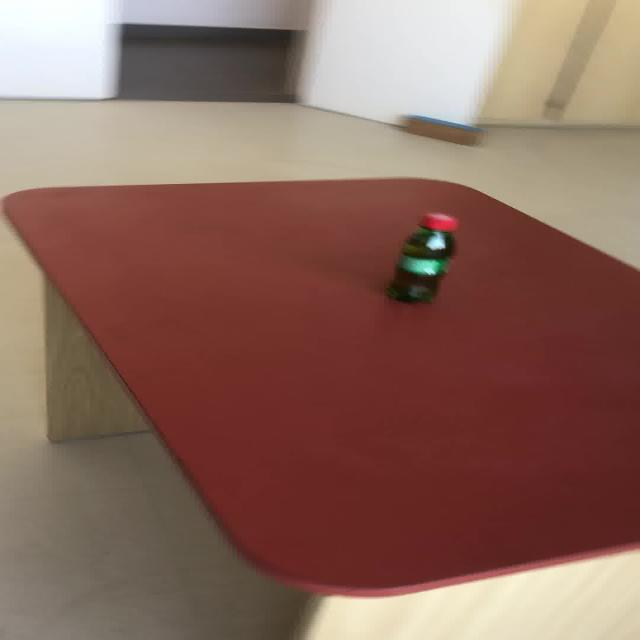guarana: (384, 211, 459, 304), (394, 211, 458, 279)
